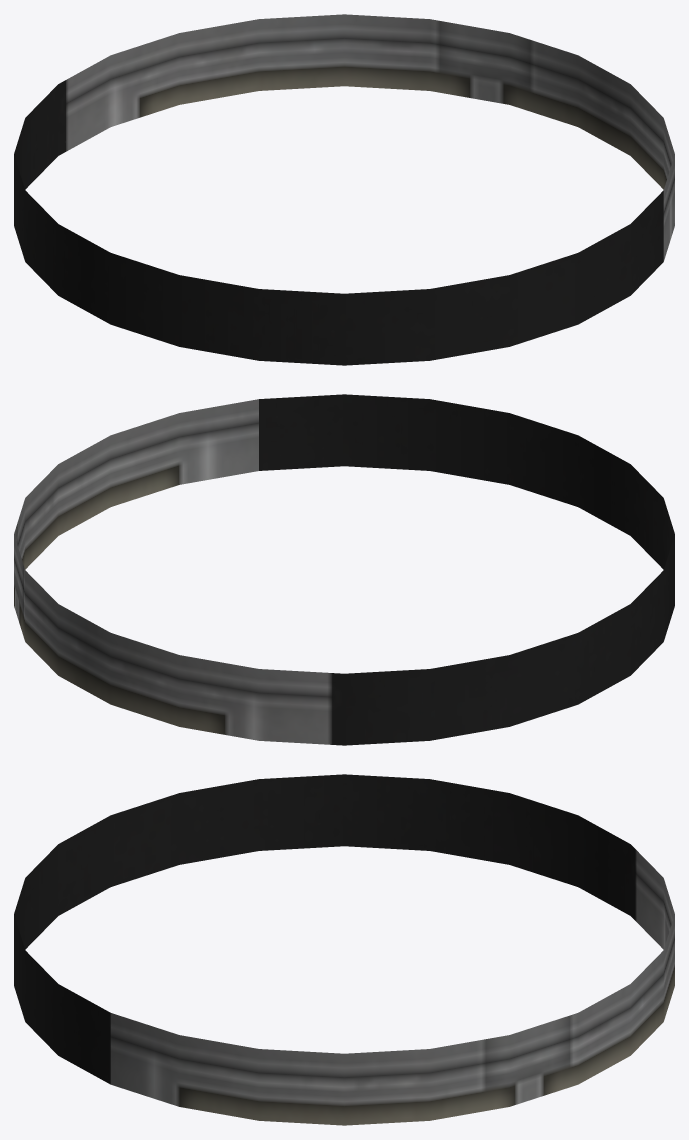
The model's file is decoupler.obj.
3 renders of one model, top to bottom at view 1: azimuth 30°, elevation 25°; view 2: azimuth 150°, elevation 25°; view 3: azimuth 270°, elevation 25°, orthographic.
Parts seen in each view (by area): view 1: mesh; view 2: mesh; view 3: mesh.
Boxes of the visible parts, left/top/right/bottom form: mesh: left=14, top=14, right=674, bottom=365; mesh: left=14, top=394, right=674, bottom=745; mesh: left=14, top=774, right=674, bottom=1125.
Size of the model in its own units: 1.25 by 0.15 by 1.25.
